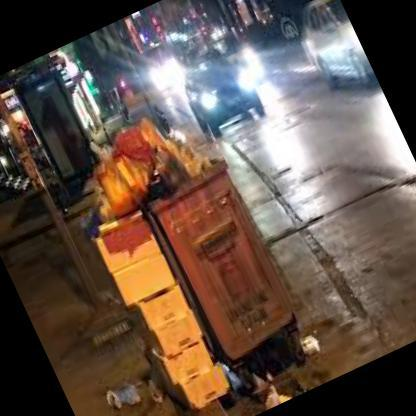Garbage: (46, 117, 245, 415), (62, 90, 206, 221), (80, 122, 166, 217), (138, 138, 194, 197), (97, 372, 152, 415), (135, 111, 180, 156), (254, 374, 307, 410), (292, 320, 334, 362)
